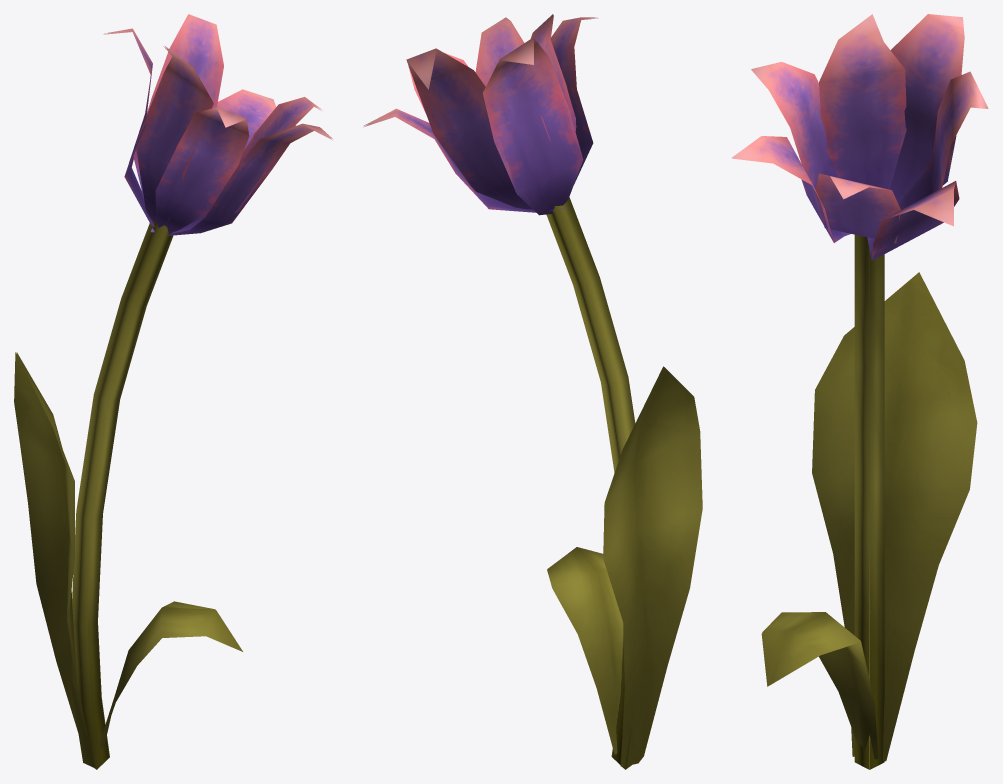
Rendered from Flower_10_01.fbx.
The picture shows the model from 3 angles, left to right: view 1: azimuth 30°, elevation 25°; view 2: azimuth 150°, elevation 25°; view 3: azimuth 270°, elevation 25°; orthographic projection. The views are drawn at different scales.
Visible parts, largest first — view 1: Flower_10_01; view 2: Flower_10_01; view 3: Flower_10_01.
Boxes of the visible parts, bbox=[...] form: Flower_10_01: bbox=[14, 14, 332, 769]; Flower_10_01: bbox=[363, 14, 702, 769]; Flower_10_01: bbox=[732, 14, 988, 769].
Size of the model in its own units: 32.82 by 23.65 by 80.12.
